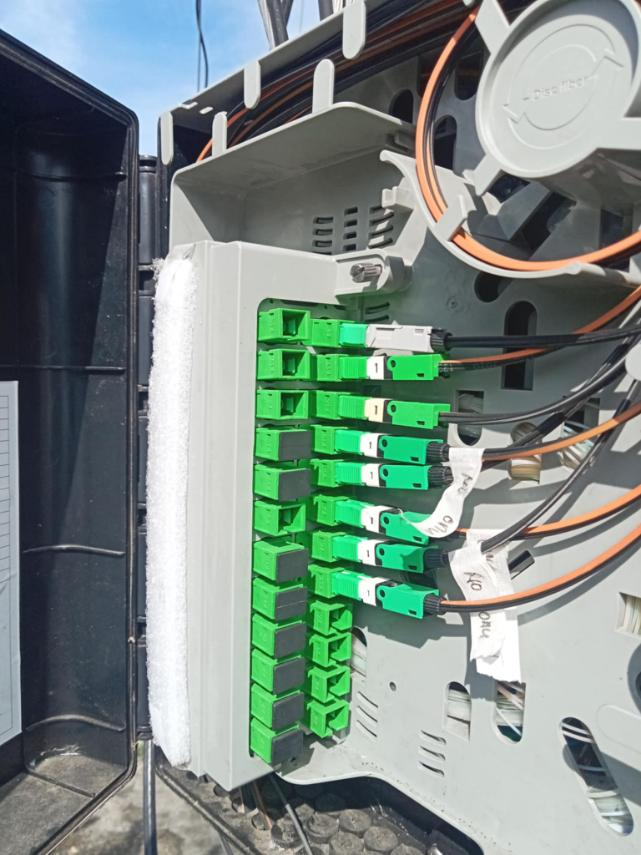no dust cap: (281, 349, 309, 379), (283, 310, 310, 340), (279, 391, 306, 420), (278, 505, 305, 534), (329, 604, 354, 634), (324, 706, 349, 736), (327, 636, 352, 666), (326, 669, 351, 699)
occupied: (329, 570, 439, 623), (336, 501, 440, 548), (334, 535, 446, 578), (341, 396, 449, 432), (338, 429, 446, 465), (341, 352, 451, 386), (343, 323, 453, 356), (339, 459, 450, 491)
vacant: (274, 658, 304, 695), (275, 621, 305, 658), (274, 694, 304, 730), (272, 729, 302, 765), (281, 432, 311, 461), (276, 590, 306, 619), (280, 470, 310, 499), (278, 551, 307, 580)
